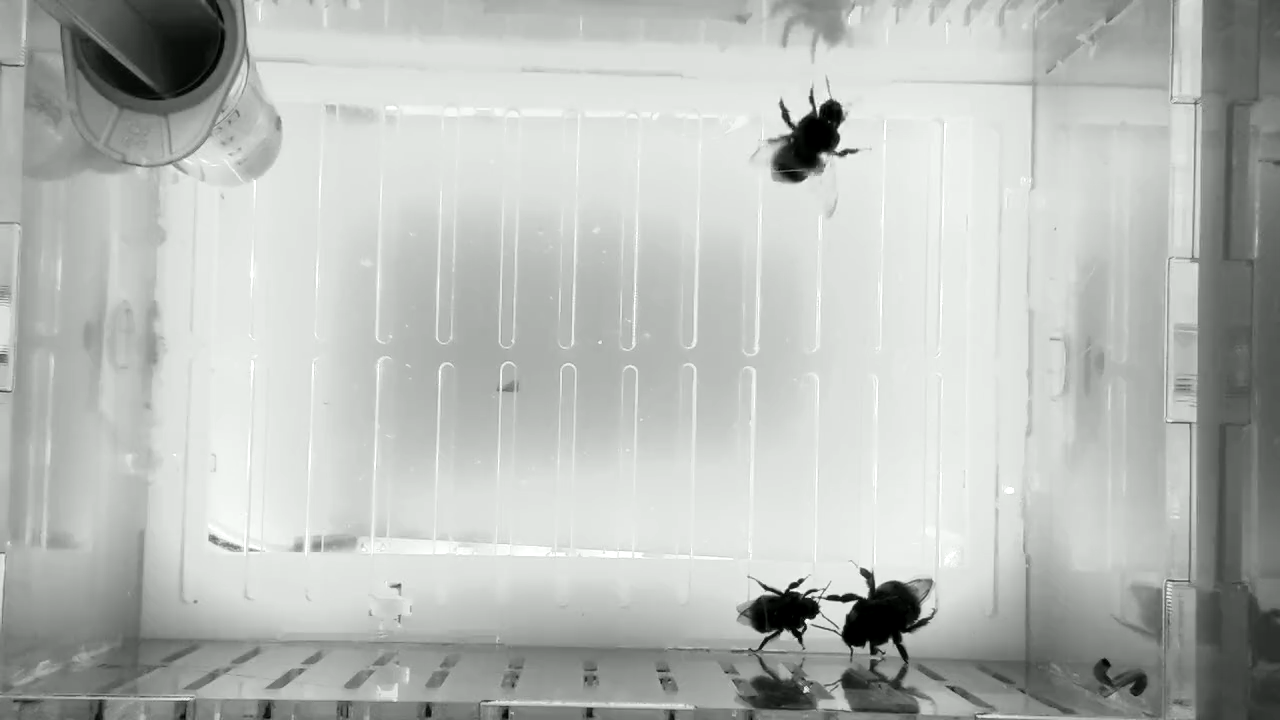bee_alive: (746, 72, 877, 225), (811, 556, 946, 664), (733, 568, 844, 656)
feeder: (176, 53, 286, 190)
